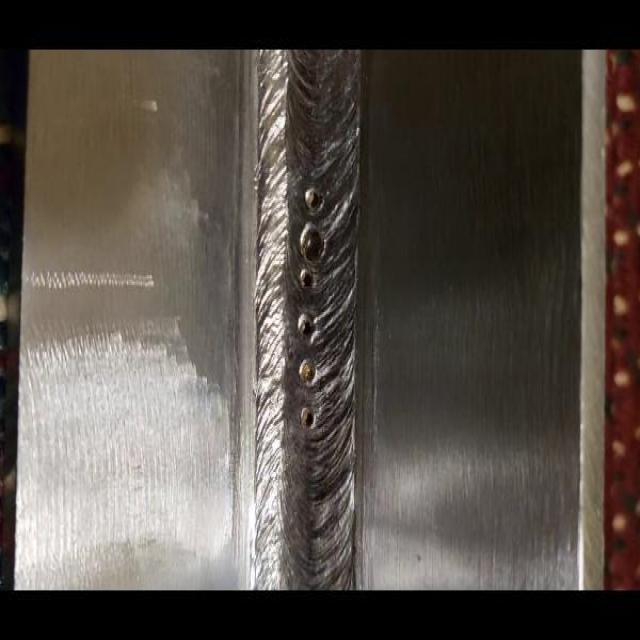Welding Line: (262, 51, 359, 589)
Workpiece: (27, 57, 603, 590)
porosity: (297, 188, 324, 430)
